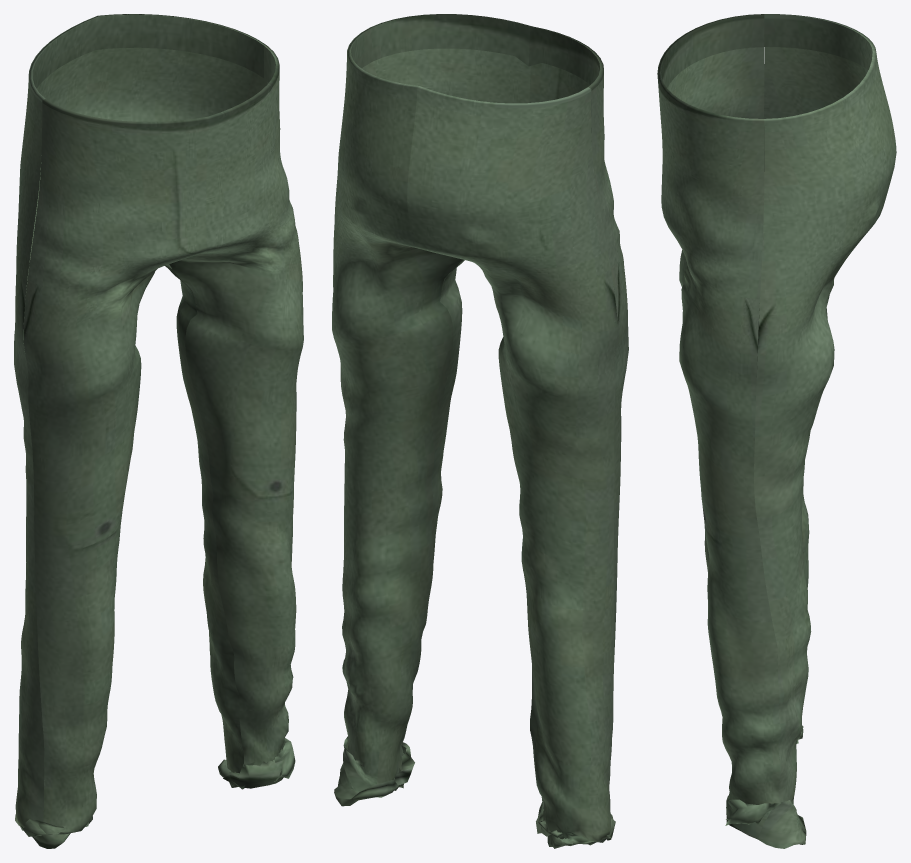
File: hose.glb
3 renders of one model, left to right at view 1: azimuth 30°, elevation 25°; view 2: azimuth 150°, elevation 25°; view 3: azimuth 270°, elevation 25°, orthographic. The views are drawn at different scales.
Parts seen in each view (by area): view 1: Hose 1; view 2: Hose 1; view 3: Hose 1.
Part boxes in pixels (x1,y1,x2,y2): Hose 1: [14, 14, 303, 848]; Hose 1: [332, 14, 628, 848]; Hose 1: [657, 14, 896, 848].
Size of the model in its own units: 0.364 by 0.976 by 0.2857.
1 material, 1 textured.
